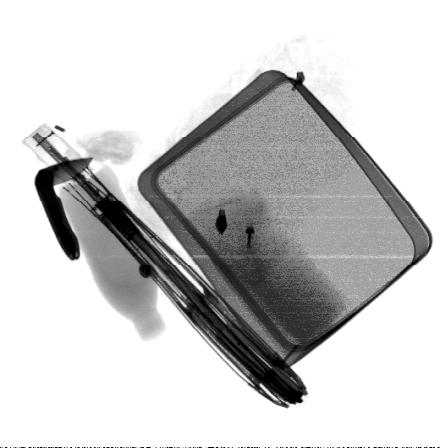Knife: (33, 156, 95, 261)
